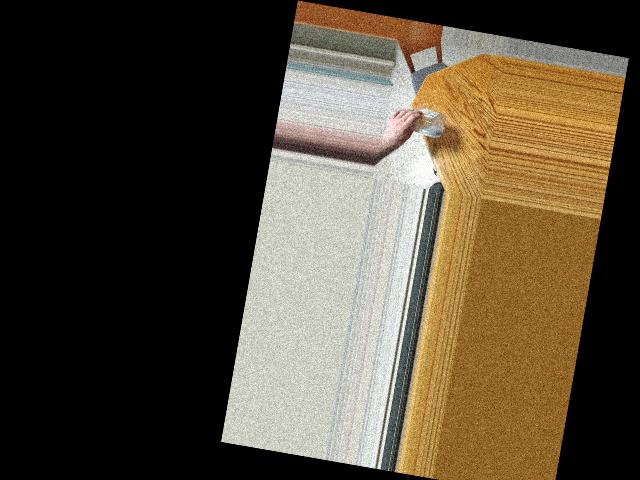cheese: (395, 101, 441, 141)
